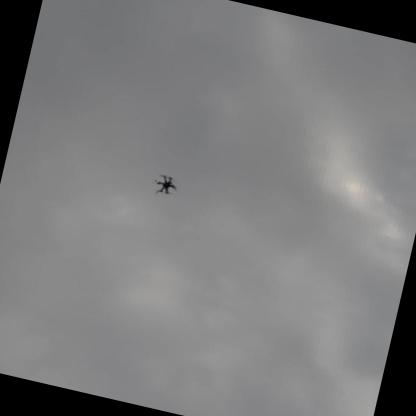drone: (147, 171, 183, 201)
